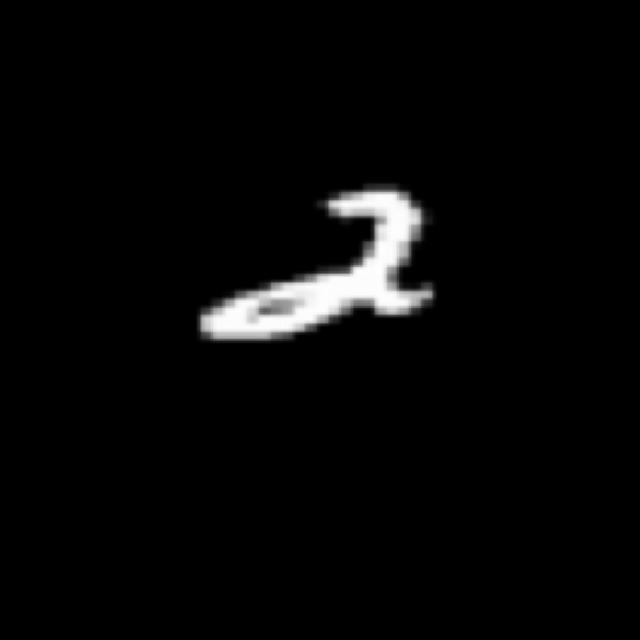two -2-: (177, 178, 440, 353)
